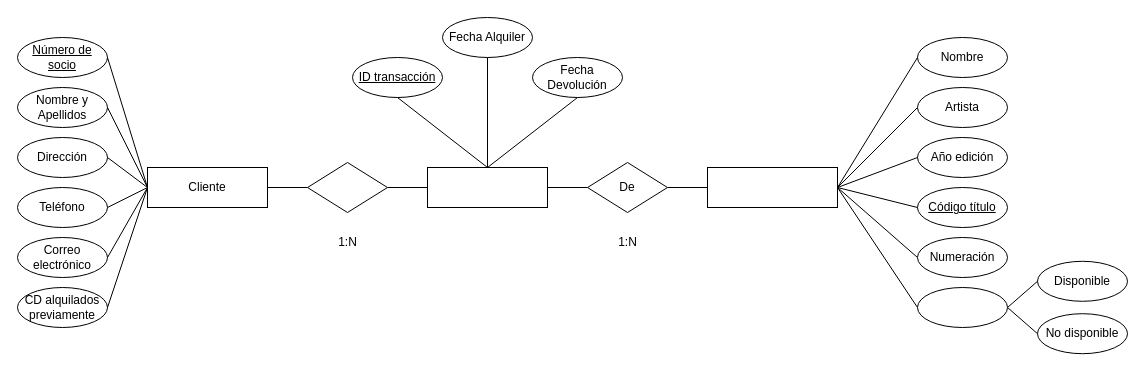
This 1145x372 diagram has some shape labels left out. Here are the shapes that lost their labels. From the top down, the box of each, then its label:
(306, 162, 388, 212): Realiza
(426, 166, 548, 208): Alquiler
(706, 166, 838, 208): CDs
(916, 286, 1008, 328): Estado
